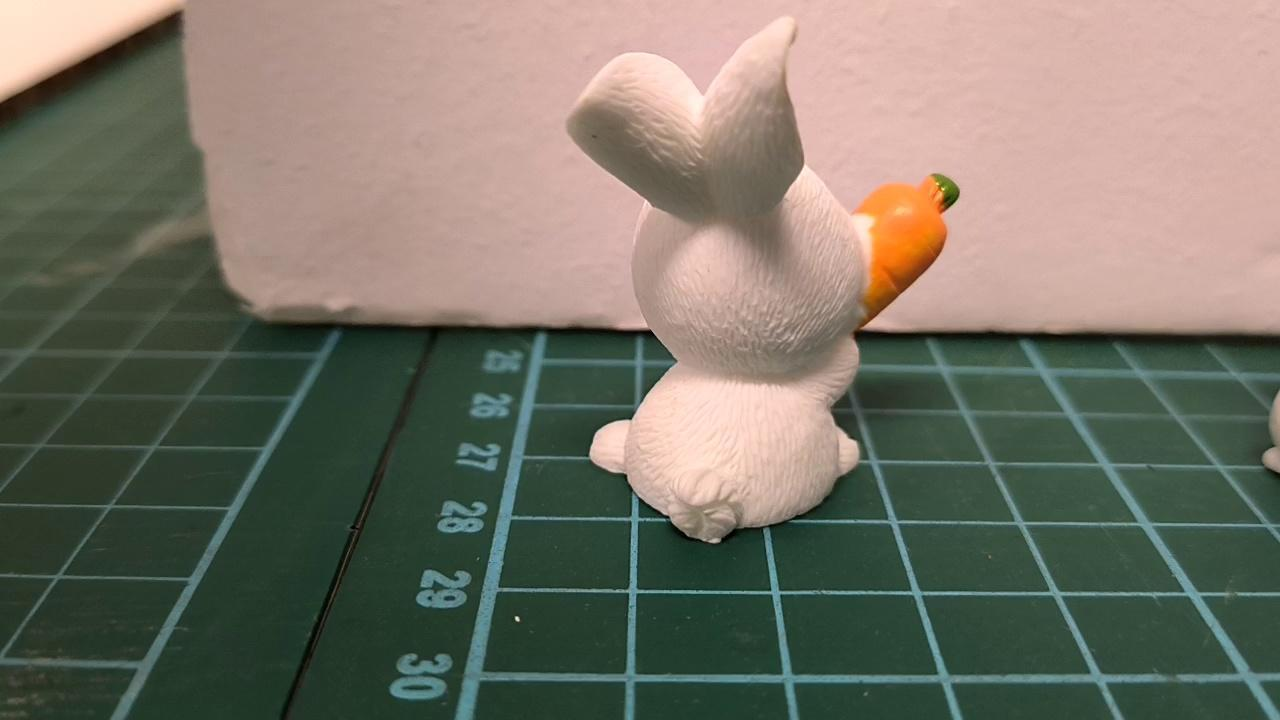pet: (565, 18, 864, 544)
